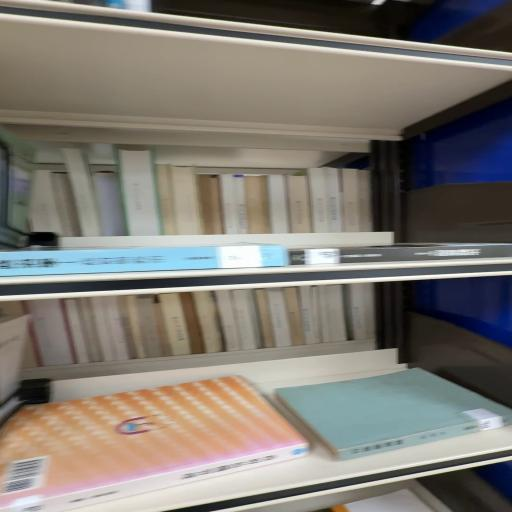flat: (1, 376, 310, 512), (276, 369, 512, 461), (1, 244, 291, 278), (290, 244, 512, 266)
